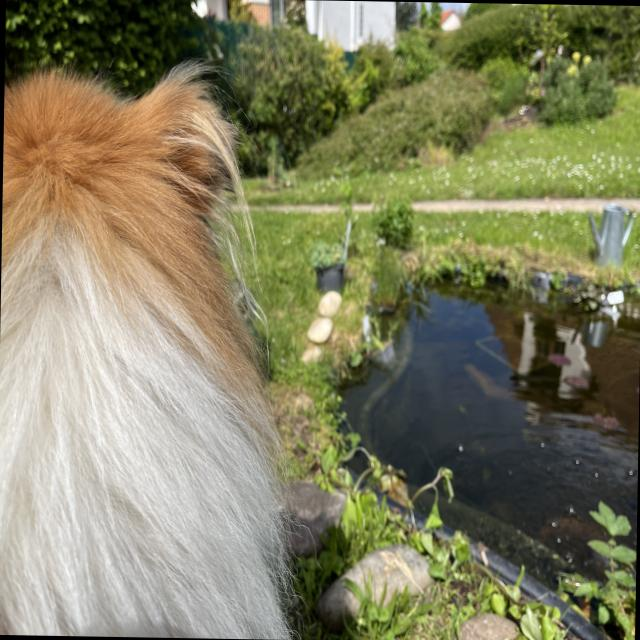Dog: (0, 50, 285, 639)
